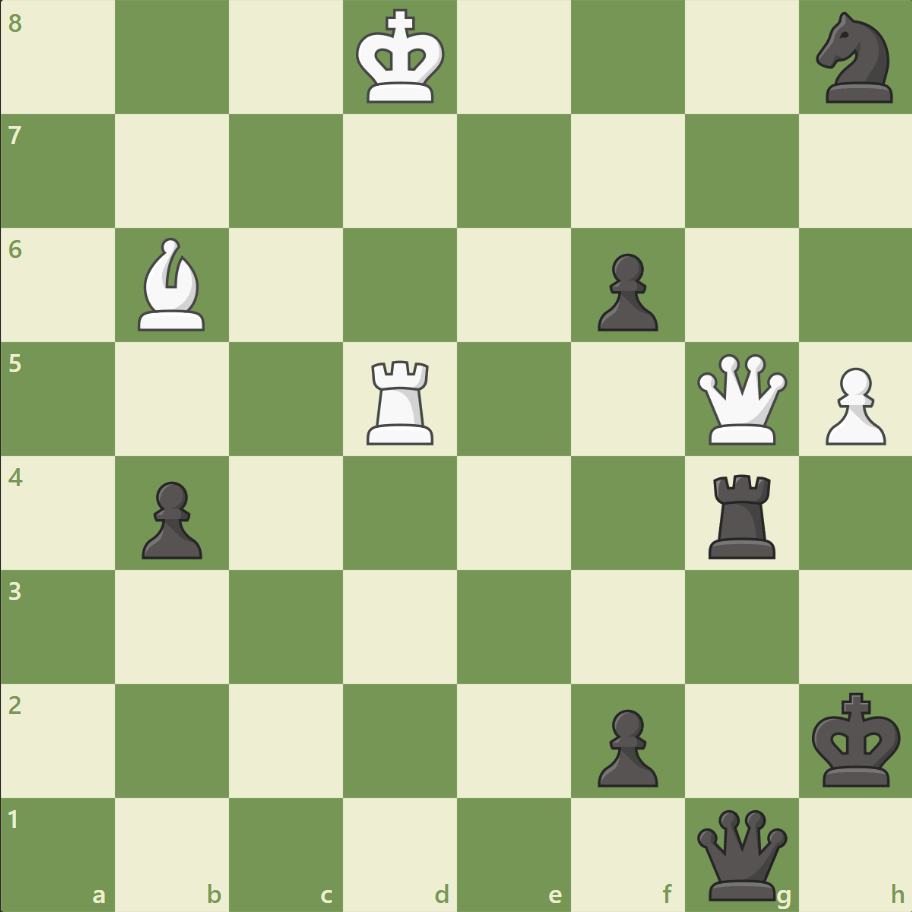B: (131, 233, 215, 336)
K: (351, 4, 451, 112)
P: (815, 359, 889, 450)
Q: (691, 349, 790, 449)
R: (360, 352, 442, 449)
k: (806, 685, 906, 793)
n: (806, 7, 903, 110)
p: (133, 473, 208, 564), (588, 246, 662, 337), (588, 700, 662, 791)
q: (691, 804, 790, 903)
r: (700, 466, 783, 563)
